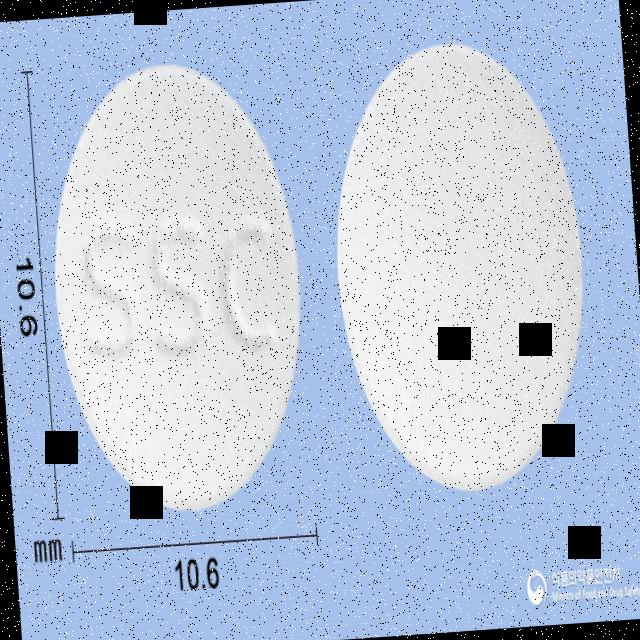Ciprofloxacin Tab- Samsung: (36, 50, 322, 522)
